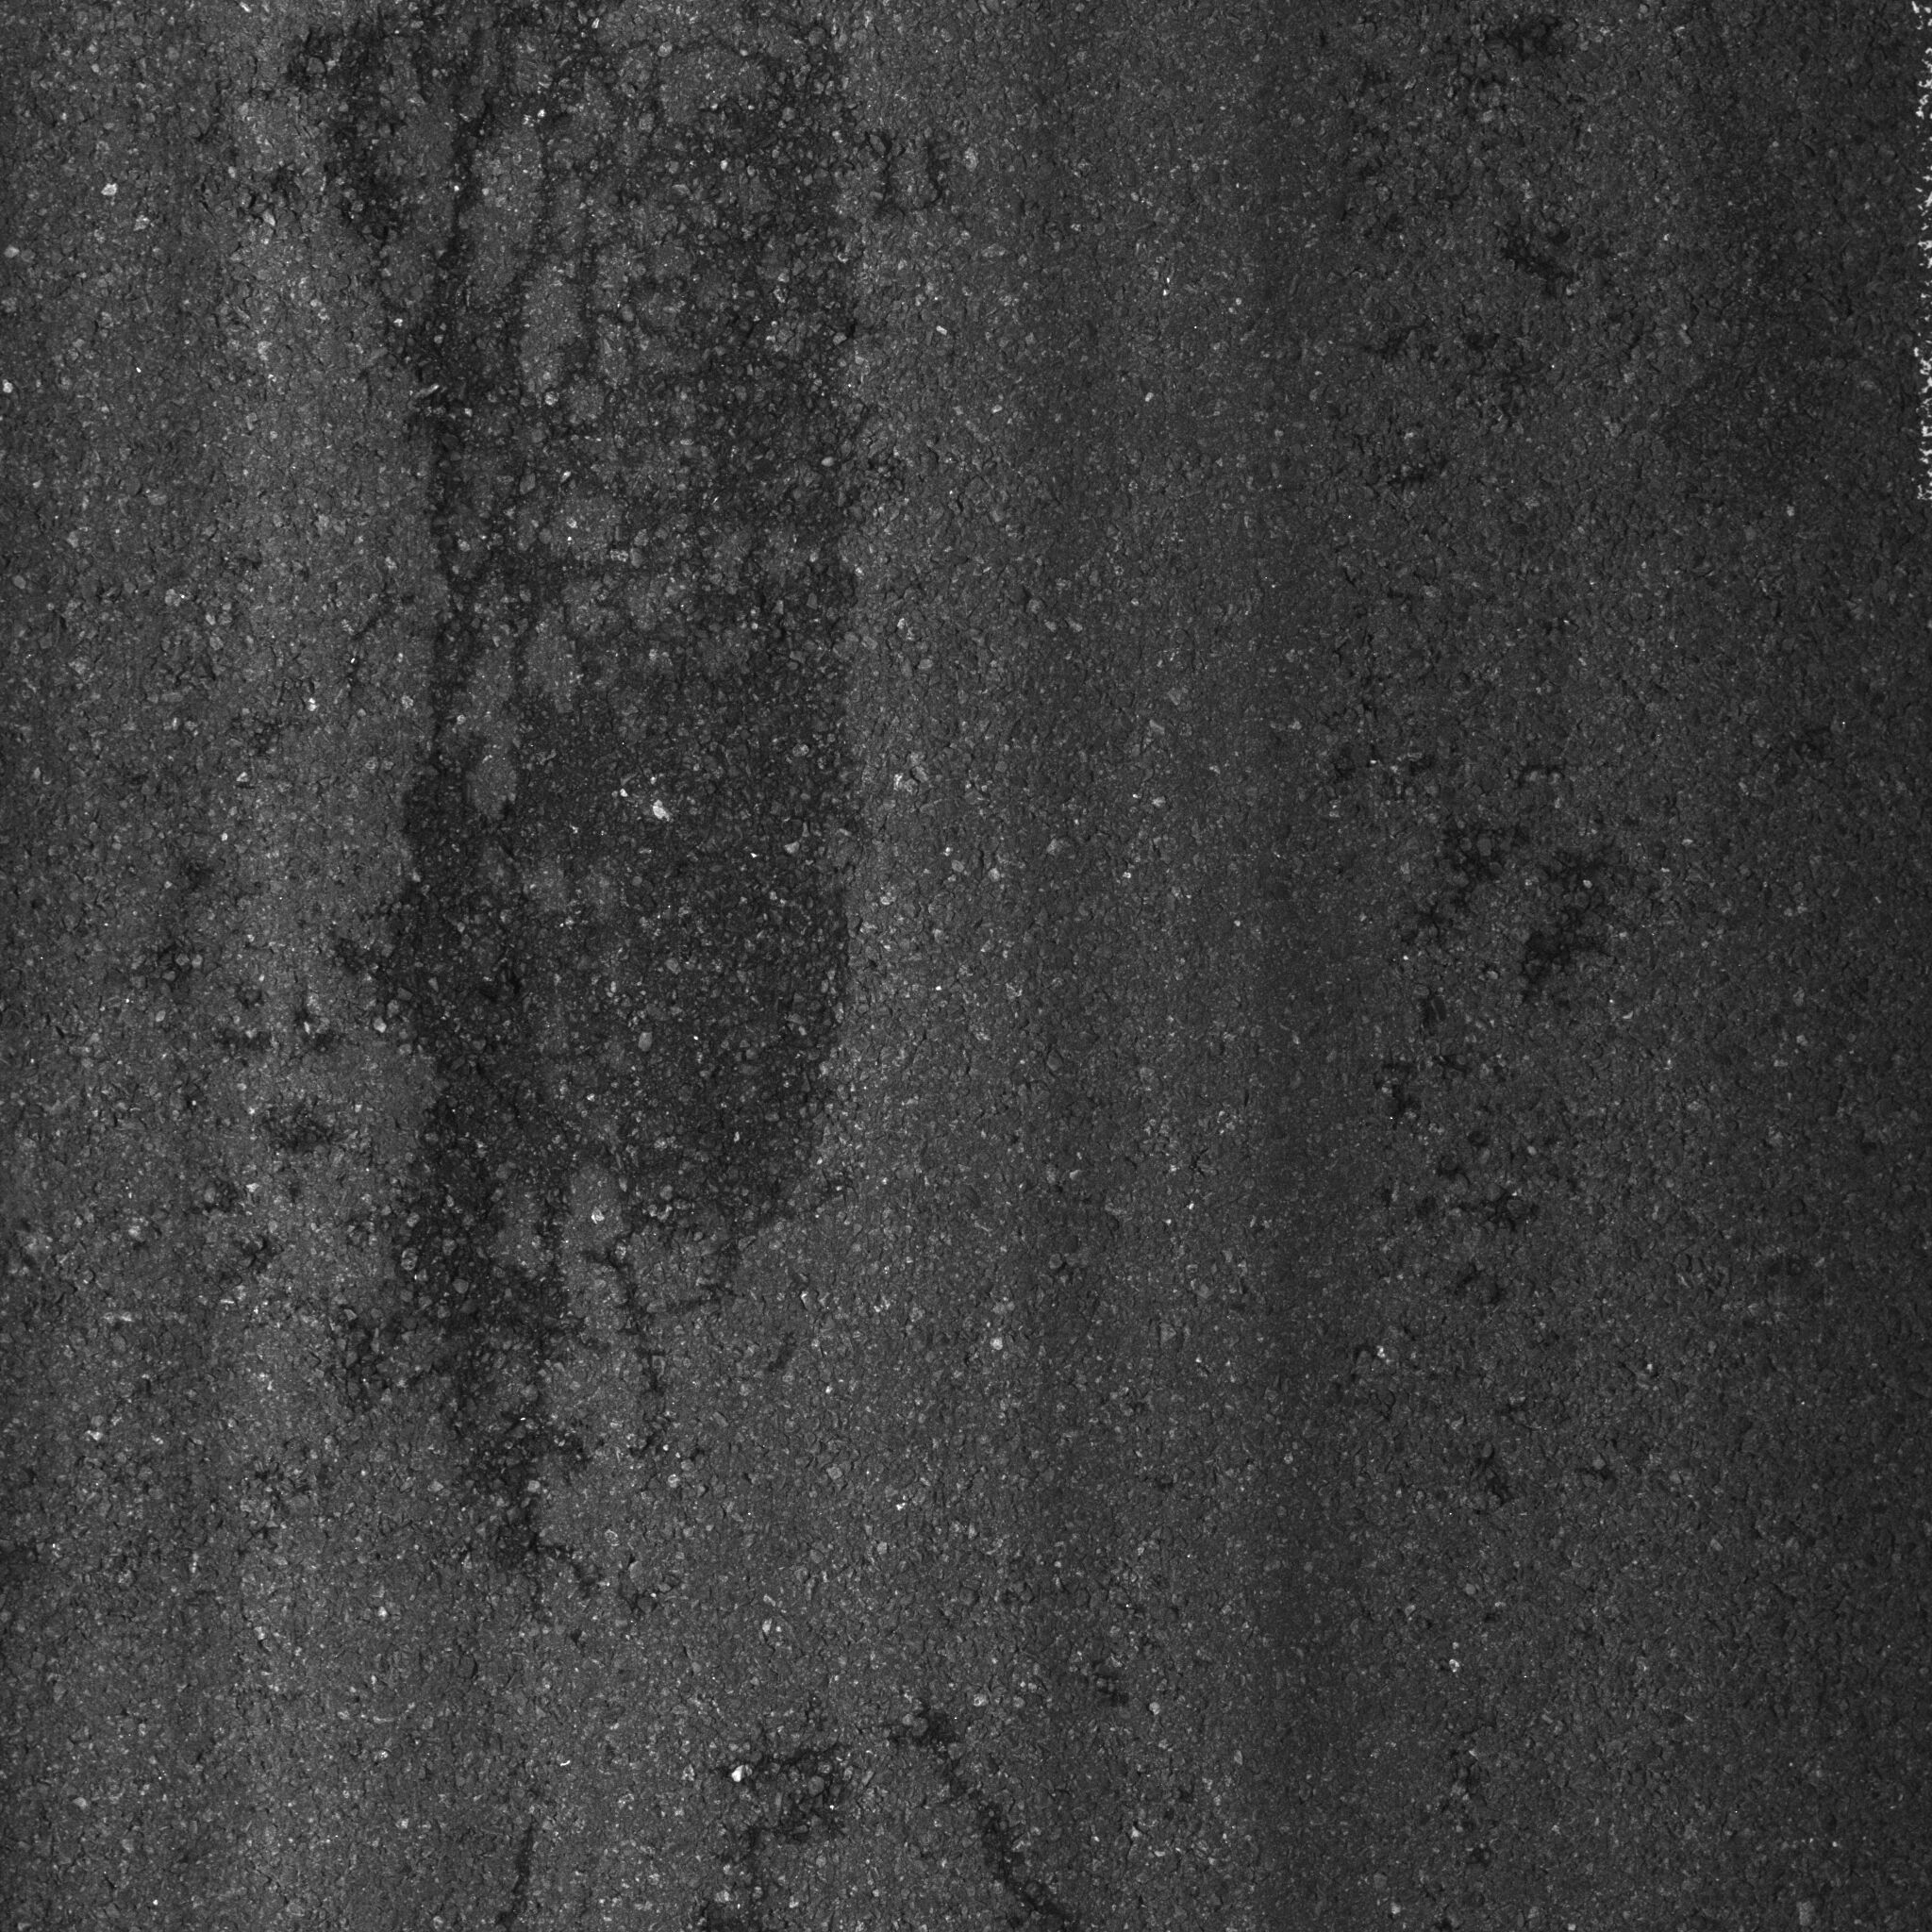alligator: (262, 5, 947, 1437)
